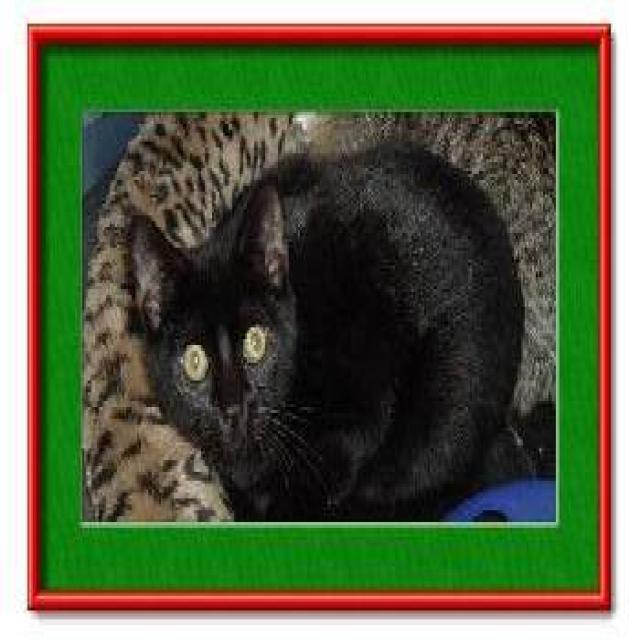cat: (106, 131, 539, 515)
